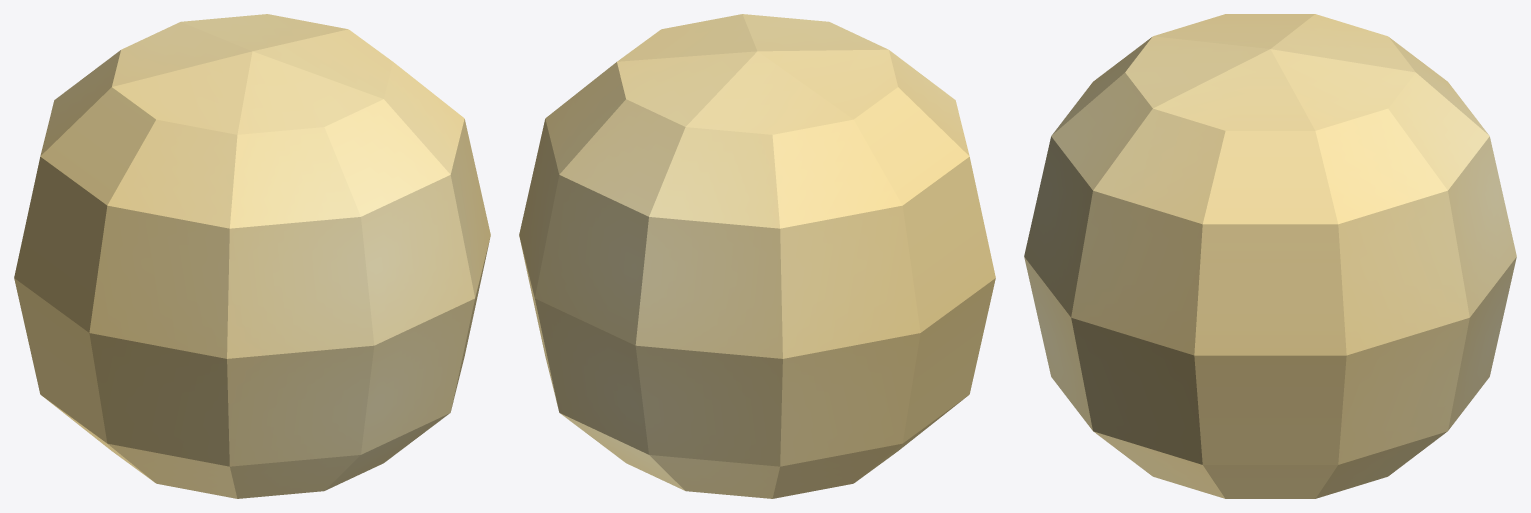
Rendered from Rambutan Piece.fbx.
3 views of the same model, side by side, from view 1: azimuth 30°, elevation 25°; view 2: azimuth 150°, elevation 25°; view 3: azimuth 270°, elevation 25° (orthographic).
Parts seen in each view (by area): view 1: Rambutan Piece; view 2: Rambutan Piece; view 3: Rambutan Piece.
Boxes of the visible parts, x1=… form: Rambutan Piece: x1=14, y1=14, x2=490, y2=498; Rambutan Piece: x1=519, y1=14, x2=995, y2=498; Rambutan Piece: x1=1024, y1=14, x2=1516, y2=498.
Bounding box in the file's own units: 10.75 × 10.5 × 11.3.
